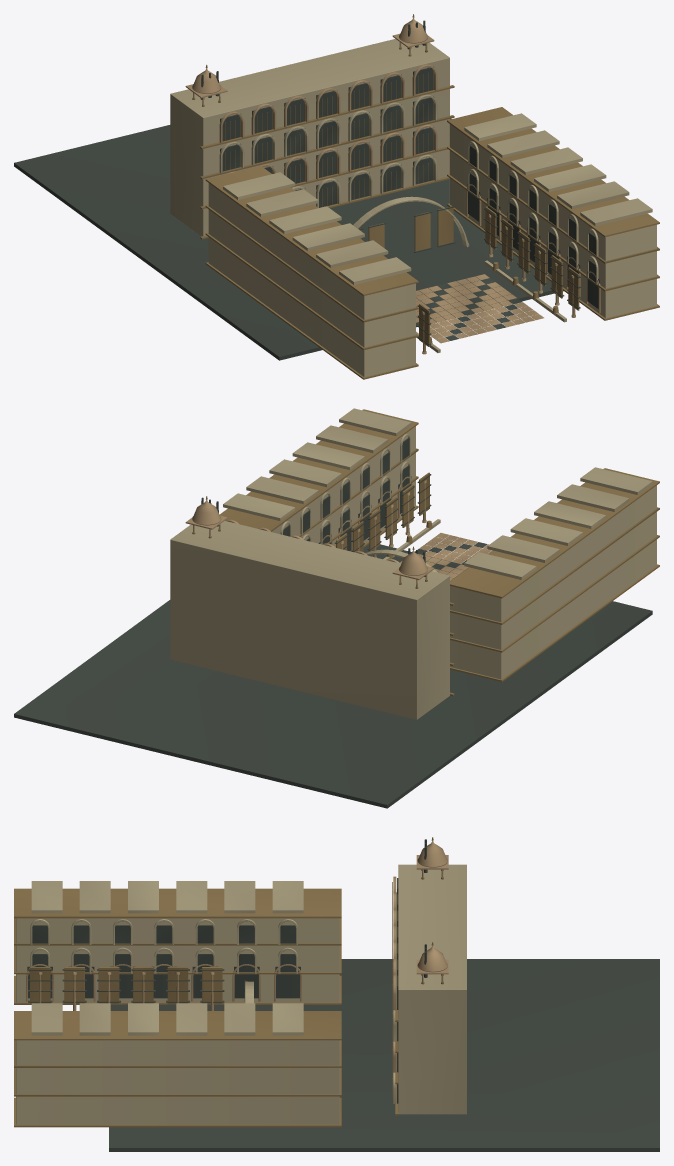
The model's file is arena-40.glb.
The picture shows the model from 3 angles, top to bottom: view 1: azimuth 30°, elevation 25°; view 2: azimuth 150°, elevation 25°; view 3: azimuth 270°, elevation 25°; orthographic projection. The views are drawn at different scales.
Parts seen in each view (by area): view 1: correction-plaster, correction-dark, correction-bronze, correction-sand; view 2: correction-plaster, correction-dark, correction-bronze, correction-sand; view 3: correction-plaster, correction-dark, correction-bronze, correction-sand.
Part boxes in pixels (<box>): correction-plaster: <box>170,39,656,376</box>; correction-dark: <box>14,20,599,360</box>; correction-bronze: <box>192,14,659,379</box>; correction-sand: <box>185,17,600,354</box>; correction-plaster: <box>170,408,656,719</box>; correction-dark: <box>14,438,652,808</box>; correction-bronze: <box>192,409,659,695</box>; correction-sand: <box>185,476,491,587</box>; correction-plaster: <box>16,864,466,1124</box>; correction-dark: <box>27,839,659,1151</box>; correction-bronze: <box>14,837,443,1127</box>; correction-sand: <box>26,840,448,1072</box>.
Size of the model in its own units: 65 by 28.06 by 93.8.
